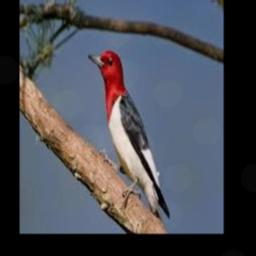Woodpecker: (88, 49, 170, 226)
